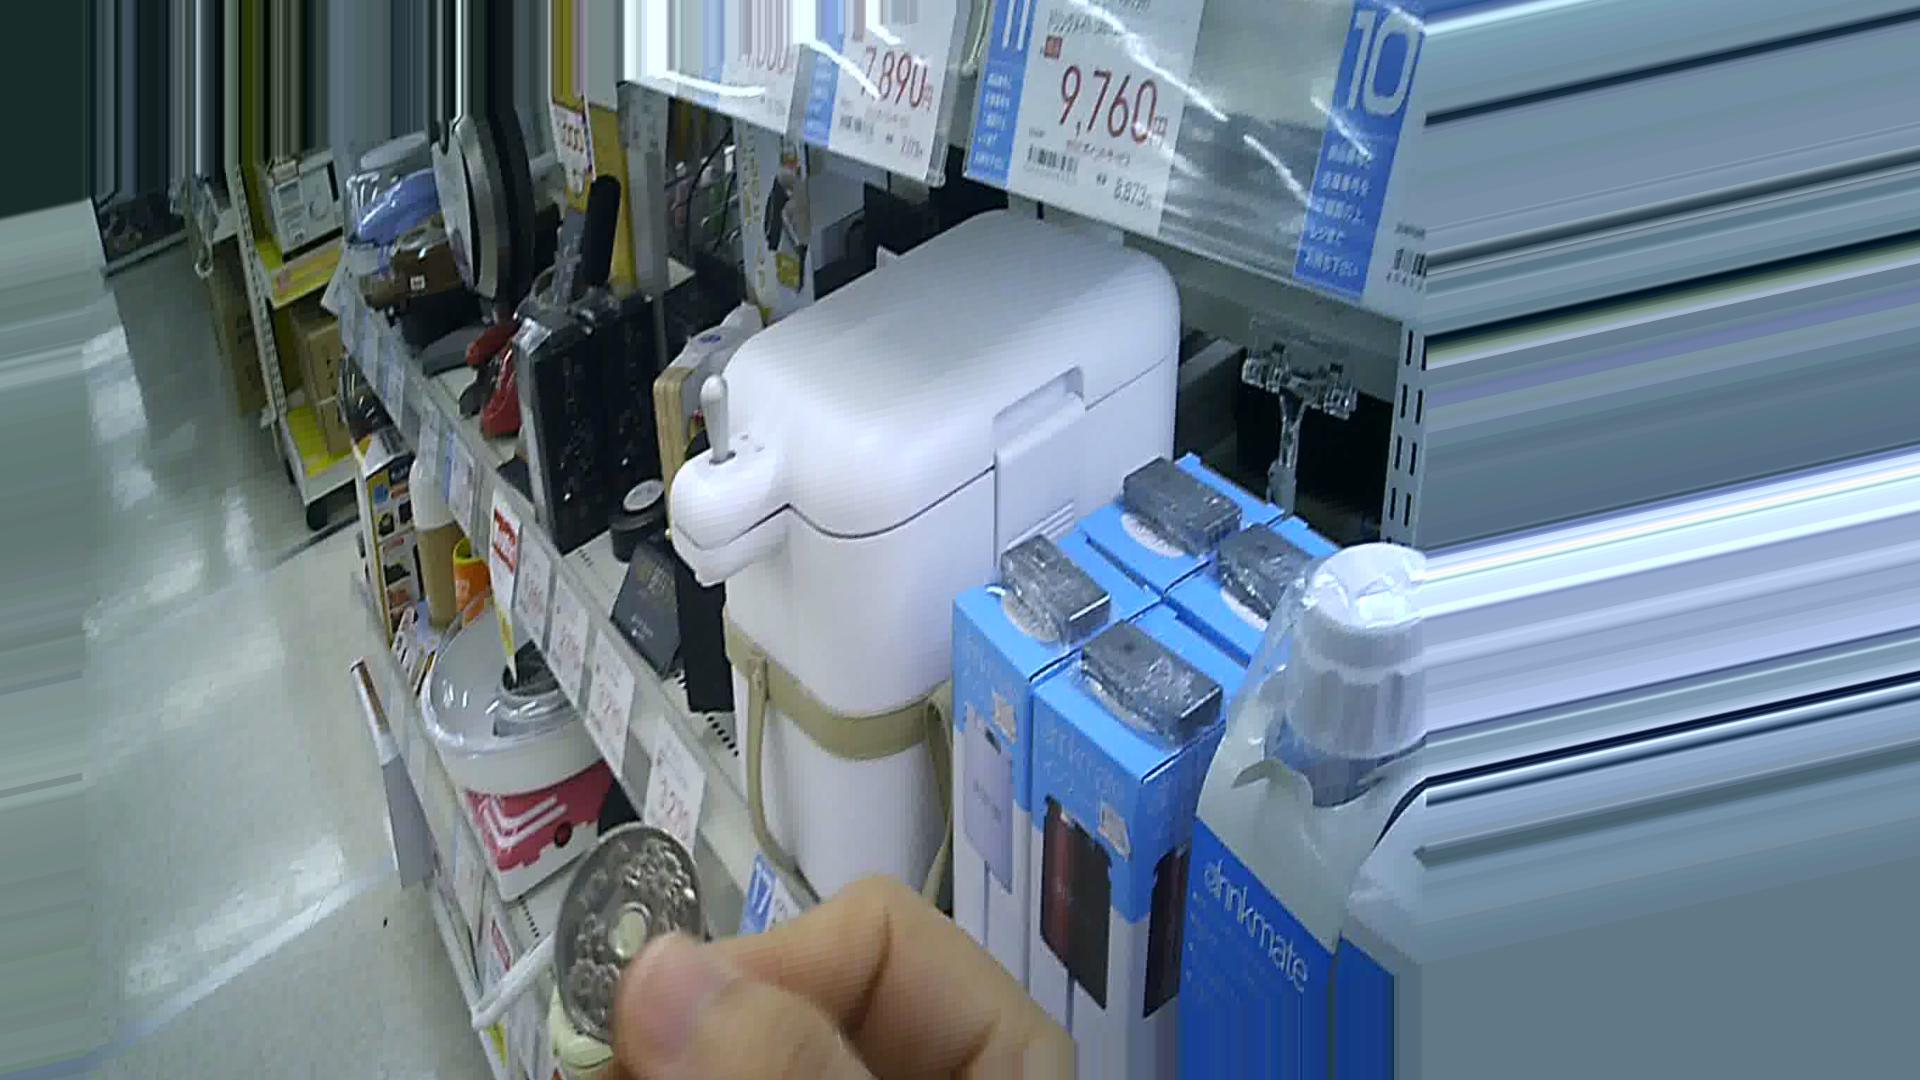50 Yen: (549, 829, 709, 1039)
